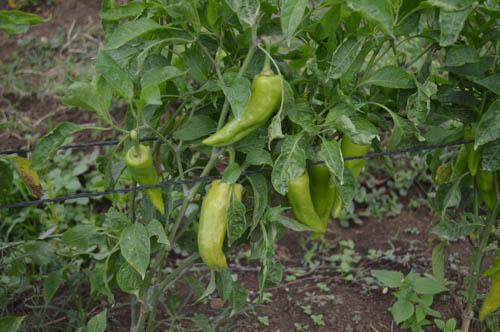ChiliPepper: (203, 76, 287, 152), (200, 179, 238, 275), (126, 147, 166, 214), (333, 131, 364, 216), (303, 161, 333, 239), (287, 170, 320, 233), (456, 127, 480, 180), (476, 160, 496, 211)
